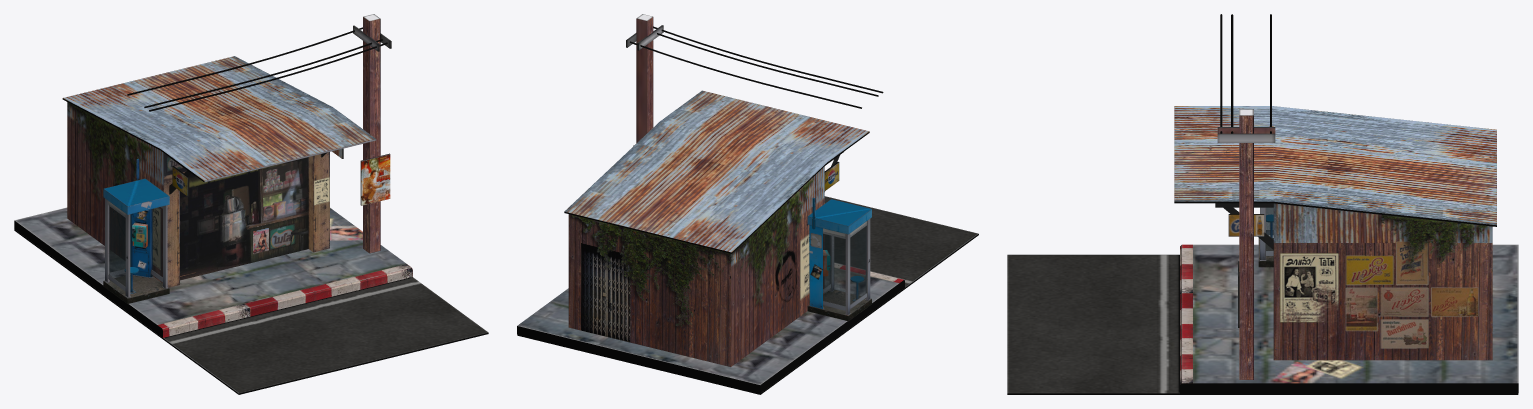
The model's file is phone_booth_and_coffee_shops_thai_vintage.glb.
3 renders of one model, left to right at view 1: azimuth 30°, elevation 25°; view 2: azimuth 150°, elevation 25°; view 3: azimuth 270°, elevation 25°, orthographic. The views are drawn at different scales.
Parts seen in each view (by area): view 1: Box001, Box003, Box004, Box002; view 2: Box001, Box003, Box004, Box002; view 3: Box001, Box003, Box004.
Part boxes in pixels (x1,y1,x2,y2): Box001: (62, 56, 376, 287); Box003: (14, 14, 488, 394); Box004: (103, 158, 169, 303); Box002: (108, 206, 162, 291); Box001: (564, 90, 869, 366); Box003: (517, 14, 978, 394); Box004: (807, 198, 871, 321); Box002: (823, 226, 867, 310); Box001: (1174, 106, 1496, 360); Box003: (1007, 14, 1518, 394); Box004: (1258, 207, 1273, 267).
Bounding box in the file's own units: 180 × 164 × 276.
4 materials, 4 textured.
